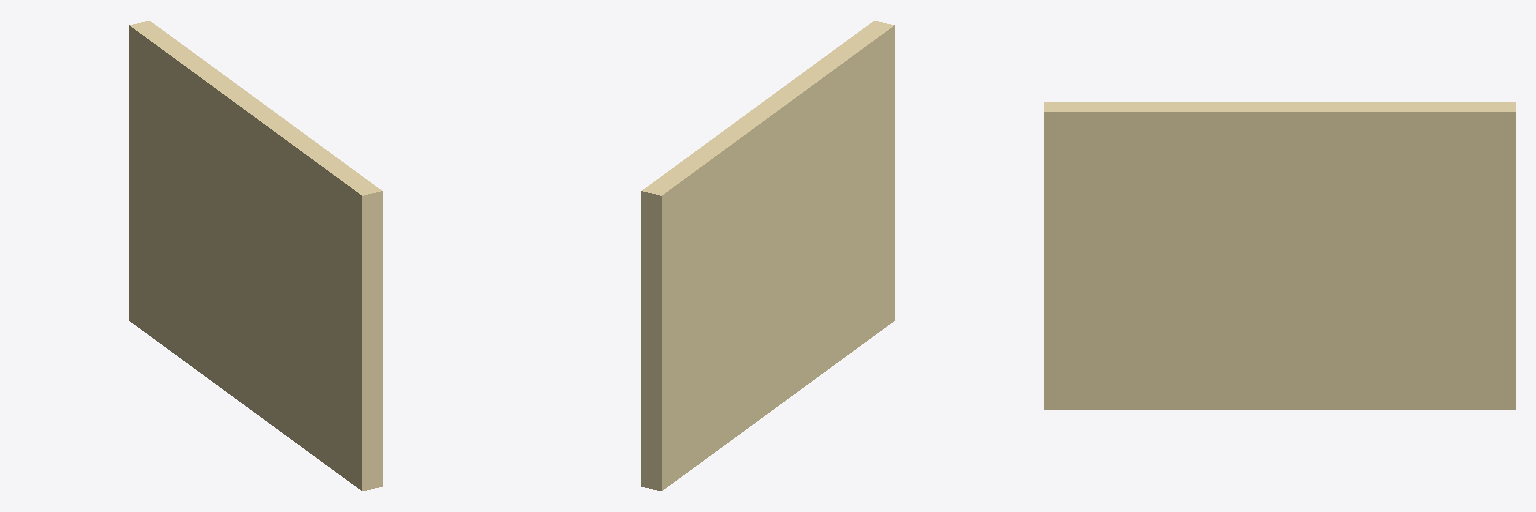
URDF robot description (wall):
<?xml version="1.0" ?>
<!-- =================================================================================== -->
<!-- |    This document was autogenerated by xacro from wall.xacro                     | -->
<!-- |    EDITING THIS FILE BY HAND IS NOT RECOMMENDED                                 | -->
<!-- =================================================================================== -->
<robot name="wall">
  <link name="wall_2_link">
    <visual>
      <geometry>
        <box size="0.15 3 2.1"/>
      </geometry>
      <material name="ocher">
        <color rgba="0.949 0.890 0.722 1"/>
      </material>
    </visual>
    <collision>
      <geometry>
        <box size="0.15 3 2.1"/>
      </geometry>
    </collision>
    <inertial>
      <mass value="1000"/>
      <inertia ixx="166.6666" ixy="0.0" ixz="0.0" iyy="166.6666" iyz="0.0" izz="166.6666"/>
    </inertial>
  </link>
  <gazebo reference="wall_2_link">
    <material>Gazebo/White</material>
  </gazebo>
  <!-- Wall fixed to the world-->
  <link name="world"/>
  <joint name="base_link_fixed" type="fixed">
    <parent link="world"/>
    <child link="wall_2_link"/>
  </joint>
</robot>

--- Render facts (derived) ---
3 views of the same robot in one strip: view 1: azimuth 30°, elevation 25°; view 2: azimuth 150°, elevation 25°; view 3: azimuth 270°, elevation 25° (orthographic).
Model wall with 2 links and 1 joints (1 fixed), rooted at world, posed all joints at 0.
Links seen in each view (by area): view 1: wall_2_link; view 2: wall_2_link; view 3: wall_2_link.
Link boxes in pixels (x1=…): wall_2_link: x1=129, y1=21, x2=382, y2=490; wall_2_link: x1=641, y1=21, x2=894, y2=490; wall_2_link: x1=1044, y1=102, x2=1515, y2=409.
Size in the robot's own frame: 0.15 by 3 by 2.1 metres.
Geometry: primitives only (box / cylinder / sphere), no mesh files.